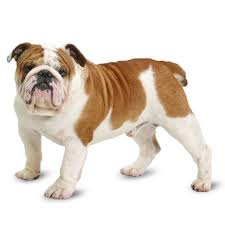Bulldog: (2, 27, 223, 208)
